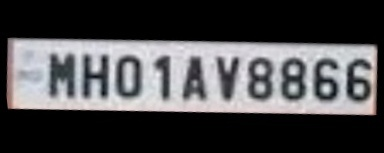character: (80, 52, 111, 99), (47, 51, 76, 101), (179, 54, 208, 102), (213, 52, 241, 101), (245, 56, 275, 101), (345, 56, 373, 104), (113, 53, 142, 99), (311, 55, 340, 101), (280, 55, 308, 102), (151, 53, 174, 102)
